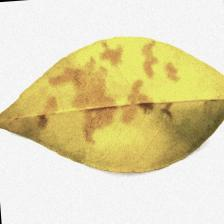black spot: (54, 68, 169, 132)
